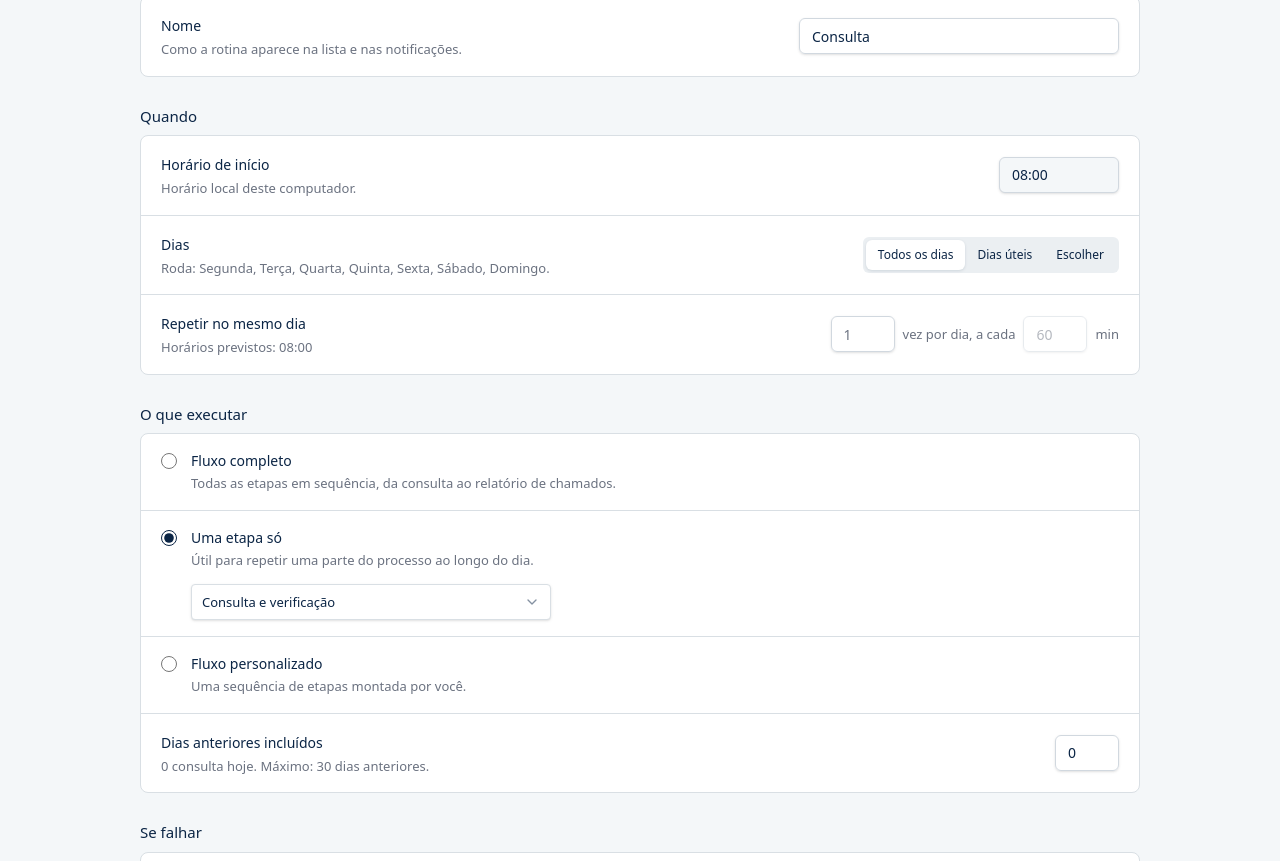
Scenario: salva frequência e tentativas e mostra uma prévia dos horários
Later steps or results of the test are not shown.
Check: the number field named "Intervalo entre execuções (min)" is disabled, box [1024, 316, 1088, 352]
Replace the text in the number field named "Execuções por dia" with "3" at (862,334), box [830, 316, 894, 352]
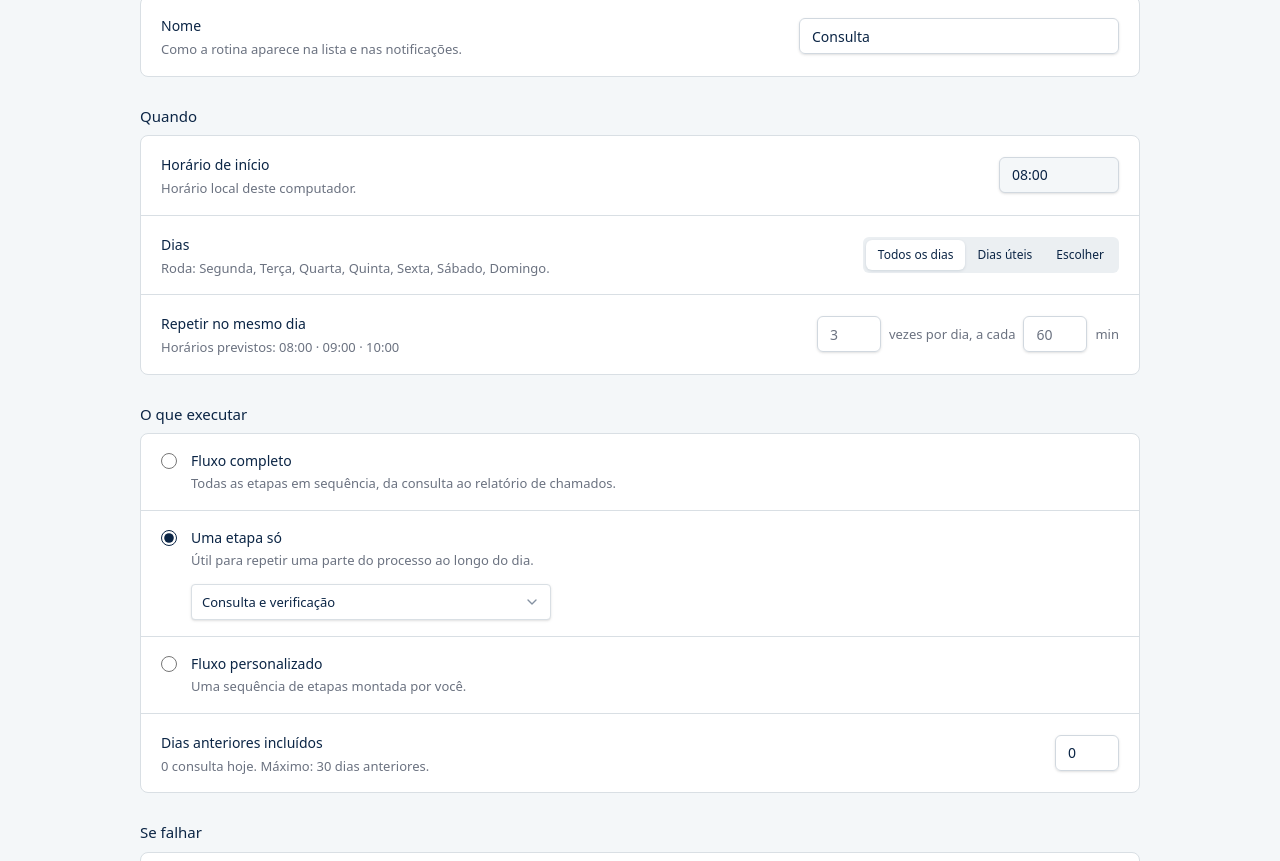
Replace the text in the number field named "Intervalo entre execuções (min)" with "120" at (1056,334), box [1024, 316, 1088, 352]
(page scrolled)
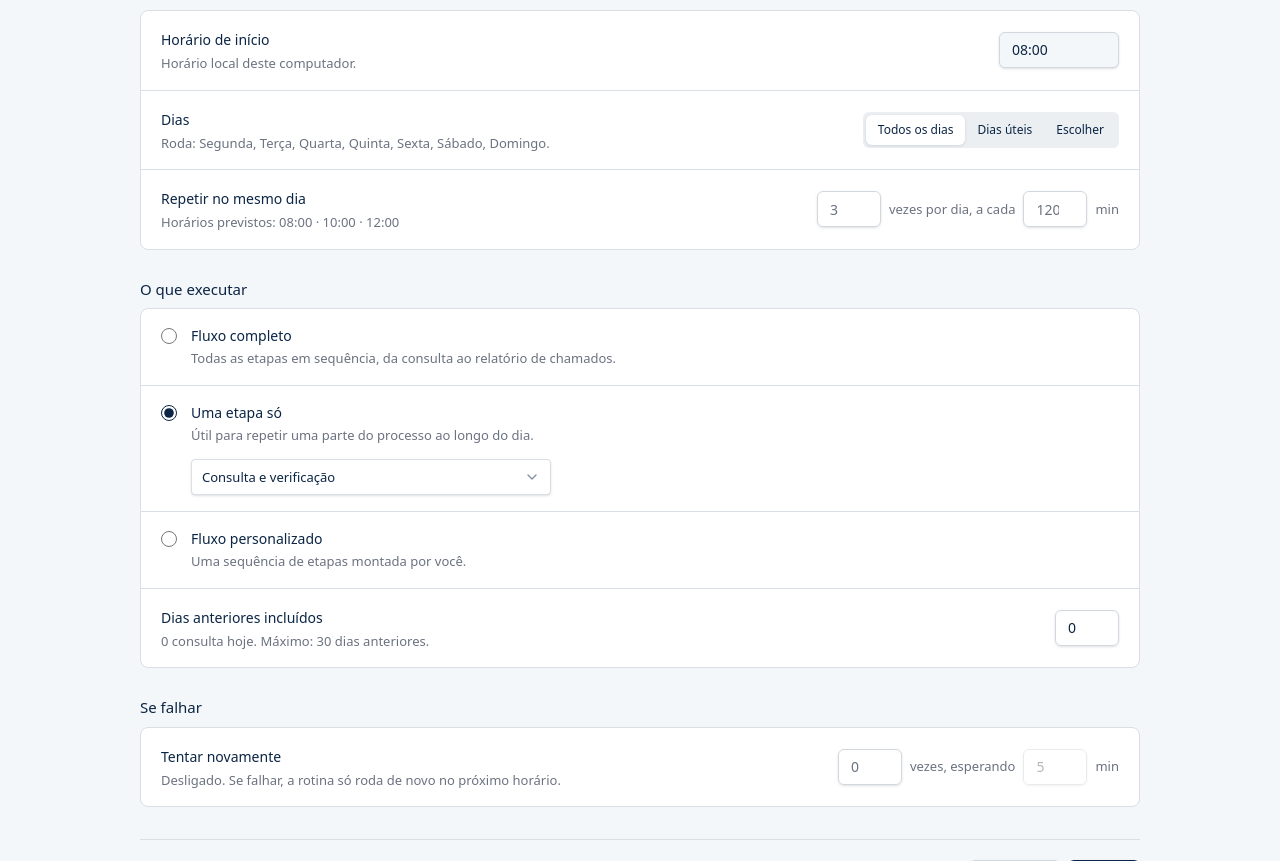
Replace the text in the number field named "Novas tentativas após falha" with "2" at (870,767), box [838, 749, 902, 785]
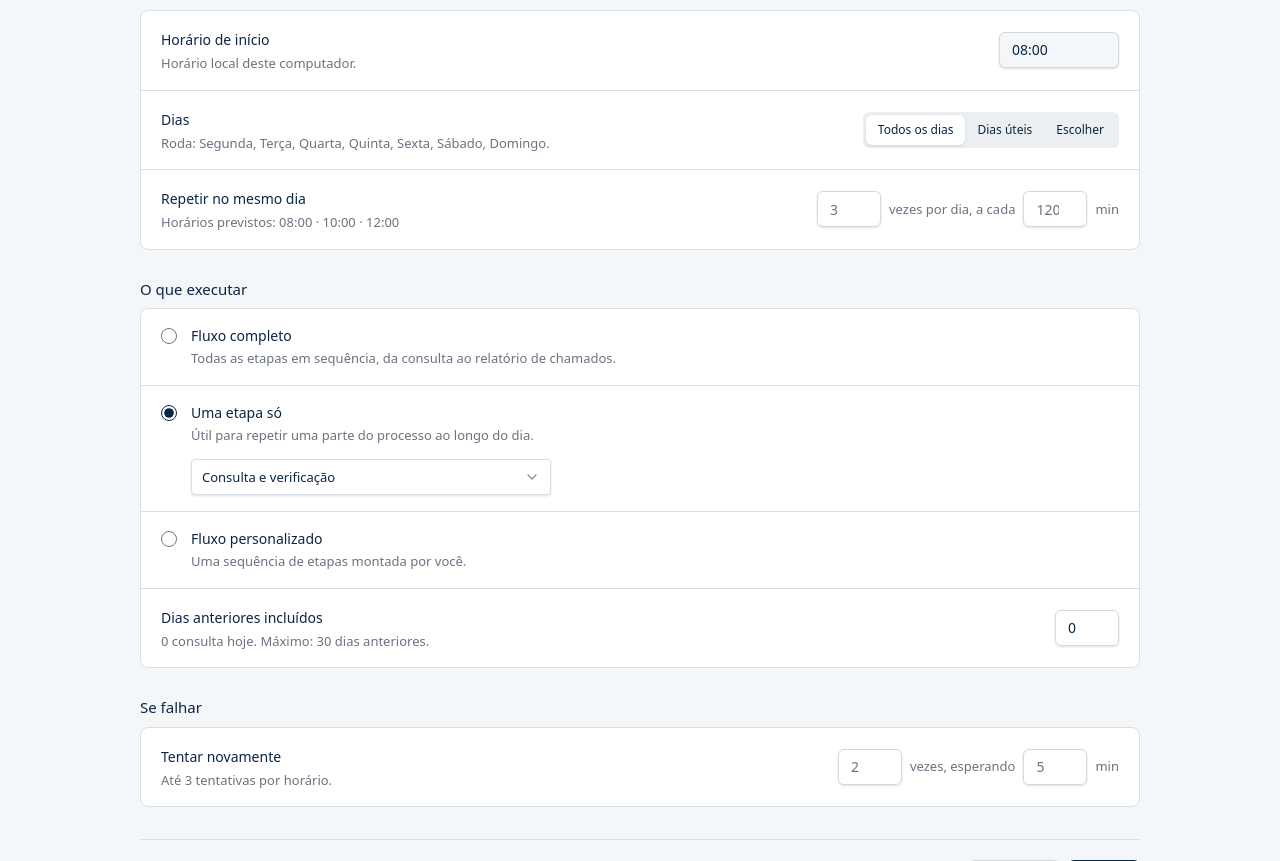
Replace the text in the number field named "Espera entre tentativas (min)" with "7" at (1056,767), box [1024, 749, 1088, 785]
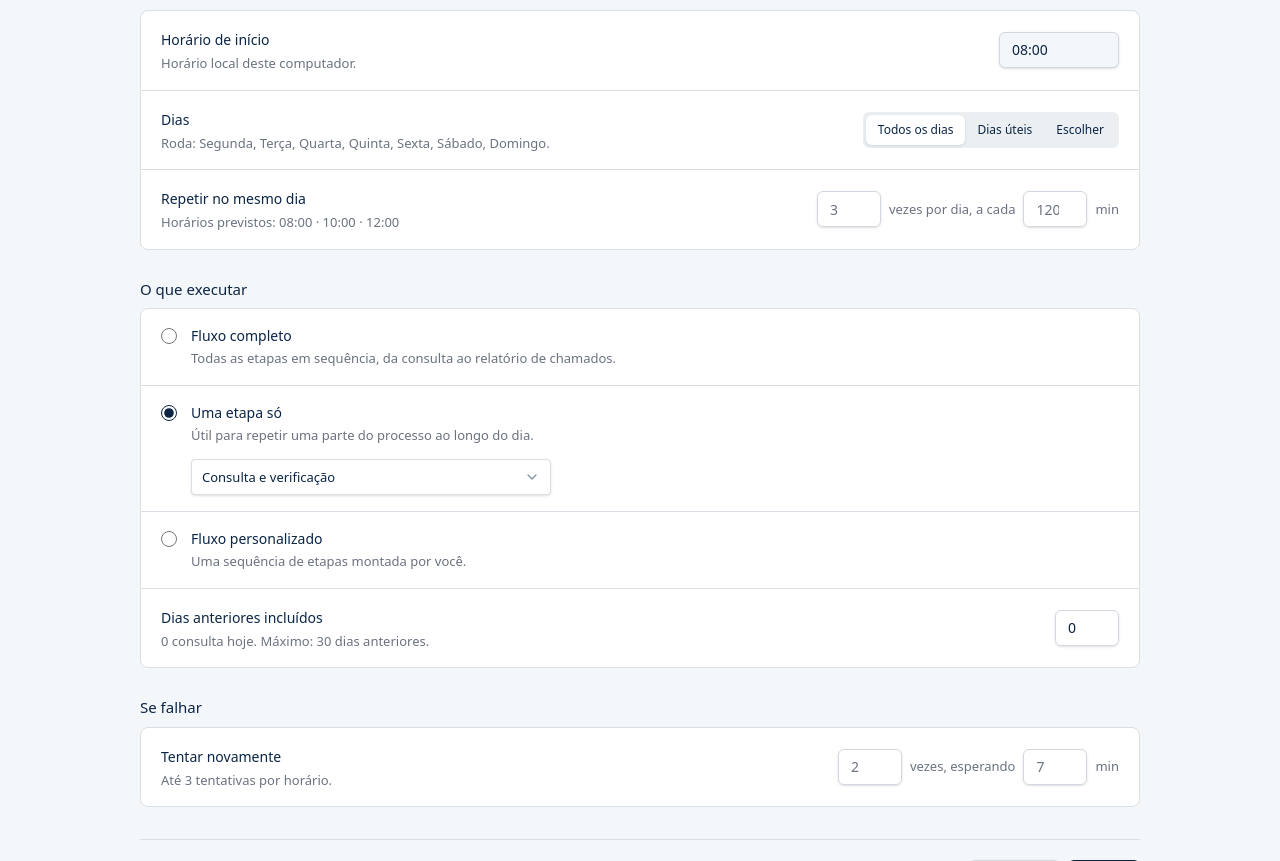
Check: the text "Horários previstos: 08:00 · 10:00 · 12:00" is shown, box [161, 213, 399, 232]
Check: the text "Até 3 tentativas por horário." is shown, box [161, 770, 332, 790]
